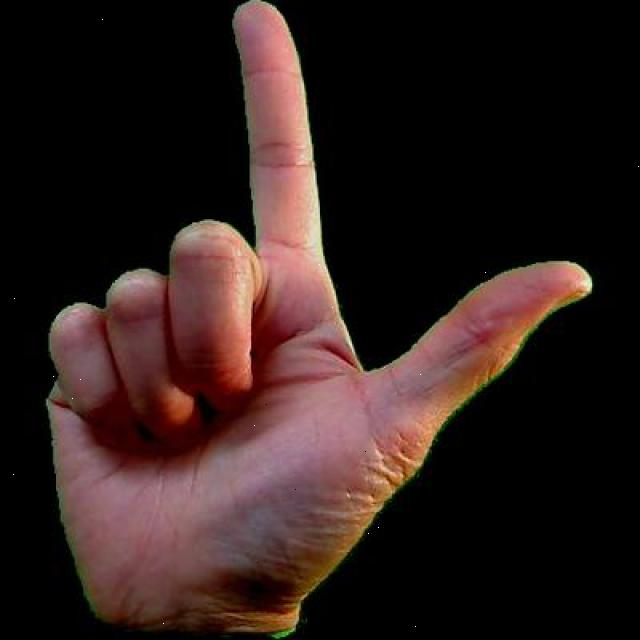l: (22, 0, 612, 637)
